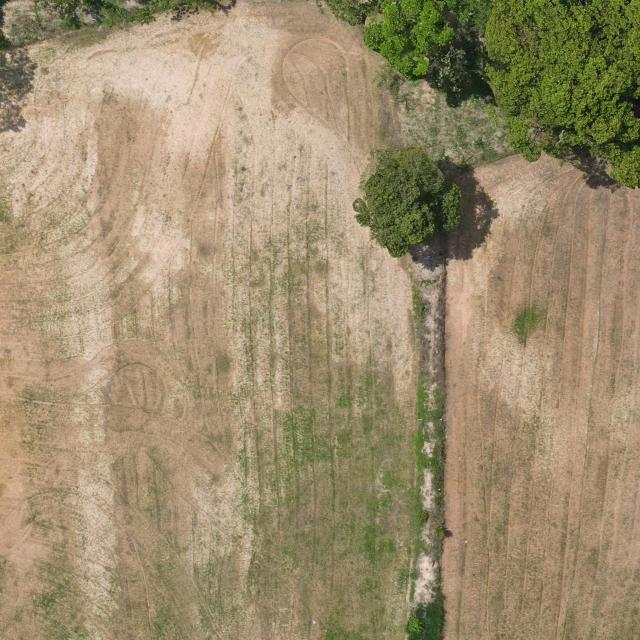Tree: (482, 0, 640, 191), (326, 0, 480, 83), (351, 145, 464, 258)
